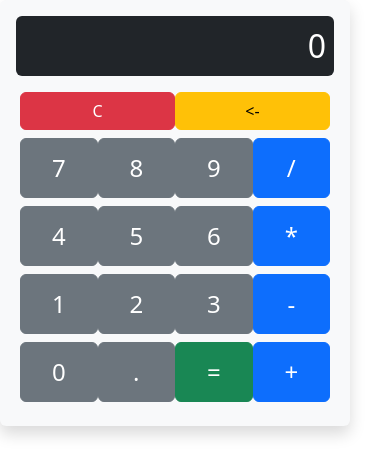
Test: Calculator › performs addition correctly
The image size is (371, 455).
Click the button "1" at (59,304), box [20, 274, 98, 334]
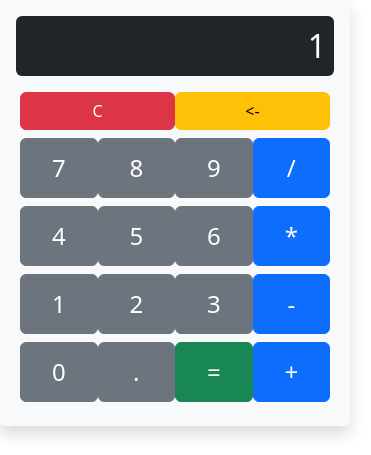
Click the button "2" at (136,304), box [98, 274, 175, 334]
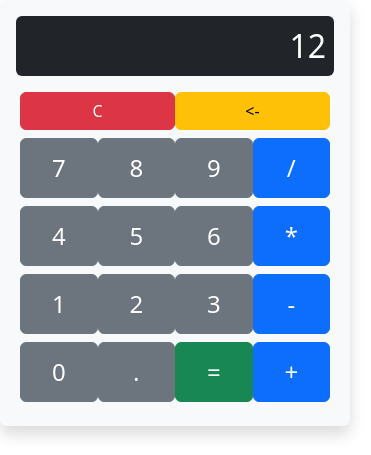
Click the button "+" at (291,372), box [252, 342, 330, 402]
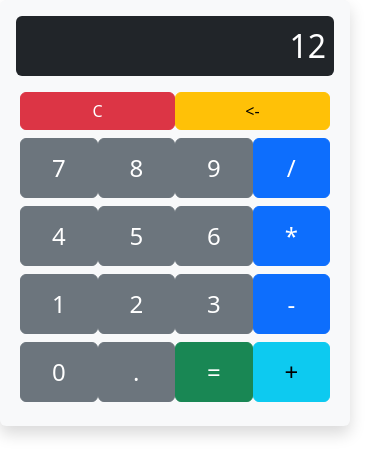
Click the button "3" at (214,304), box [175, 274, 252, 334]
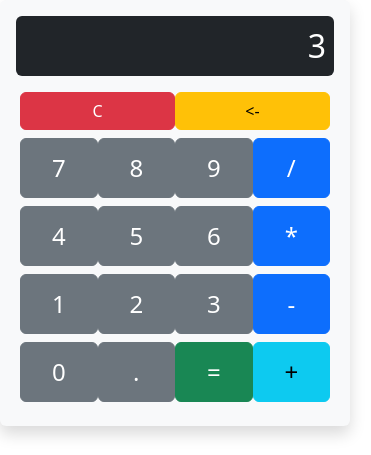
Click the button "=" at (214,372), box [175, 342, 252, 402]
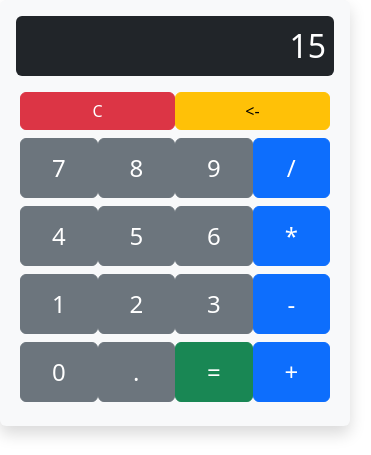
Now the text with test id "calculator-display" reads "15", box [289, 24, 326, 67]
